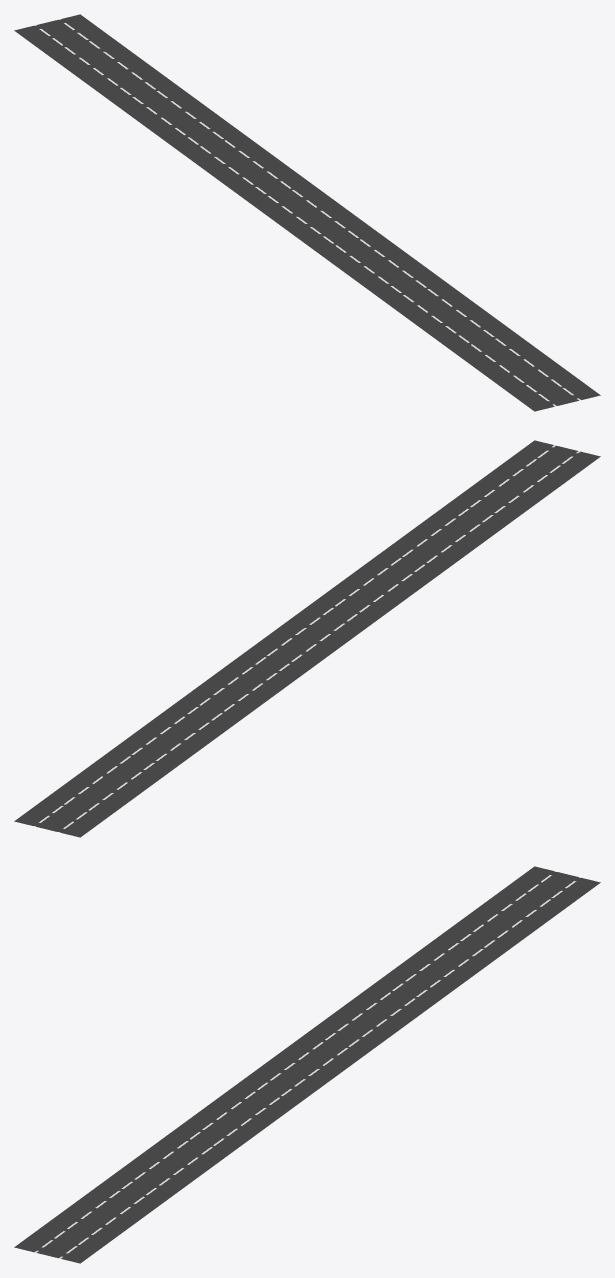
The model's file is S4 ROAD (1).fbx.
The picture shows the model from 3 angles, top to bottom: view 1: azimuth 30°, elevation 25°; view 2: azimuth 150°, elevation 25°; view 3: azimuth 330°, elevation 25°; orthographic projection.
Visible parts, largest first — view 1: pPlane9; view 2: pPlane9; view 3: pPlane9.
Part boxes in pixels (x1,y1,x2,y2): pPlane9: [14, 14, 600, 411]; pPlane9: [14, 440, 600, 837]; pPlane9: [14, 866, 600, 1263].
Size of the model in its own units: 9.46 by 0 by 129.
Materials: 1 (1 with a texture image).
